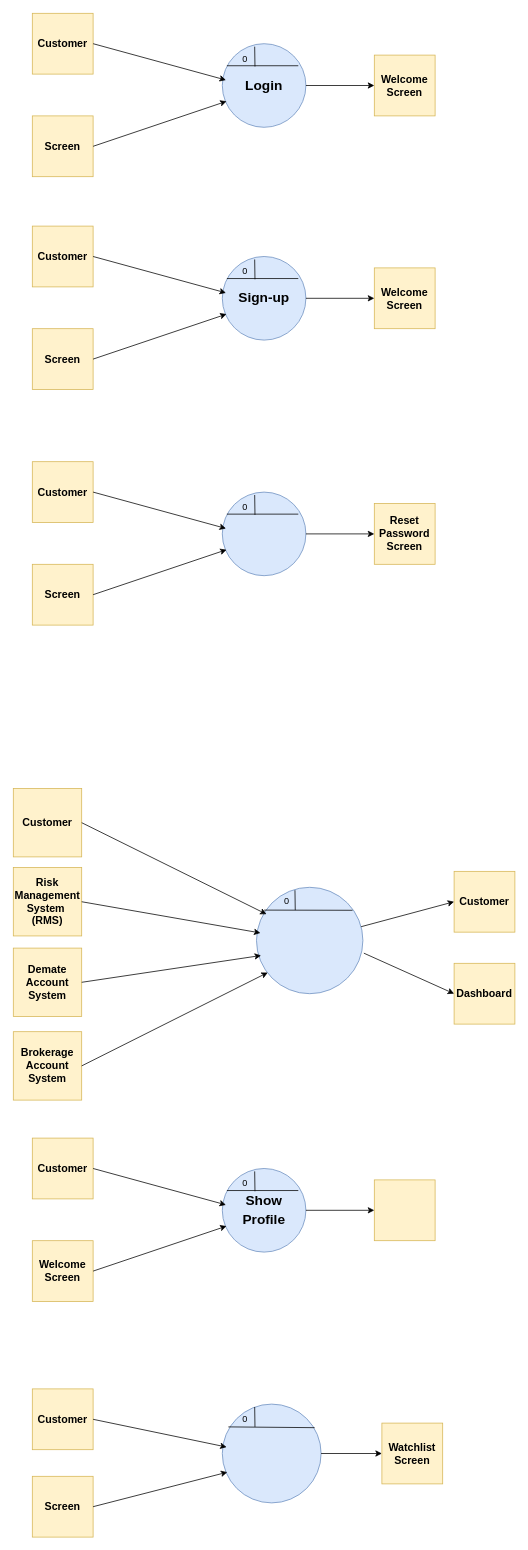
The diagram is 528 pixels wide and 1550 high, and some of its shapes have lost their labels. The box of each missing label's shape, as (x1, y1, x2, y2) in pixels:
Buy / Sell Order and View Order details: (256, 887, 363, 994)
Forgot Password: (222, 491, 306, 576)
Profile Screen: (374, 1179, 435, 1241)
View Stock Detail (Watchlist): (222, 1403, 321, 1503)
